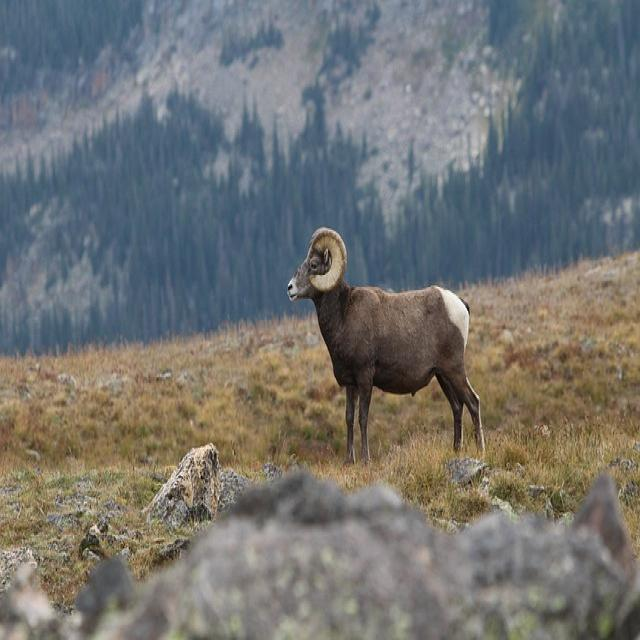goat: (288, 227, 485, 463)
